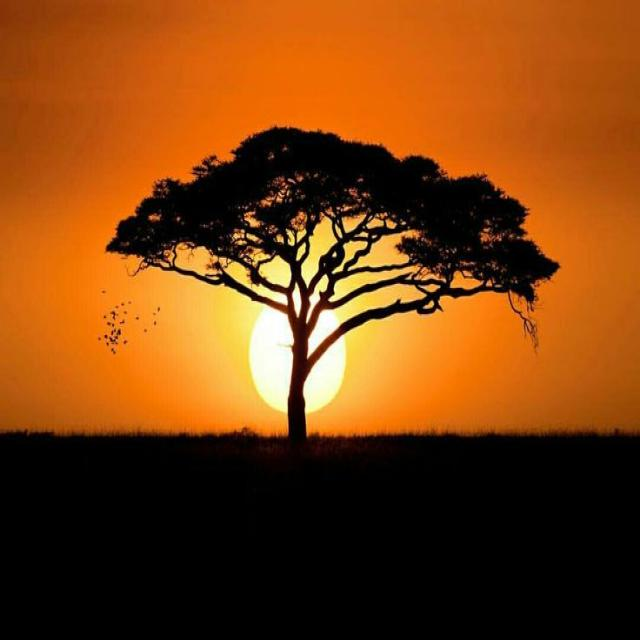Acacia: (112, 119, 555, 432)
